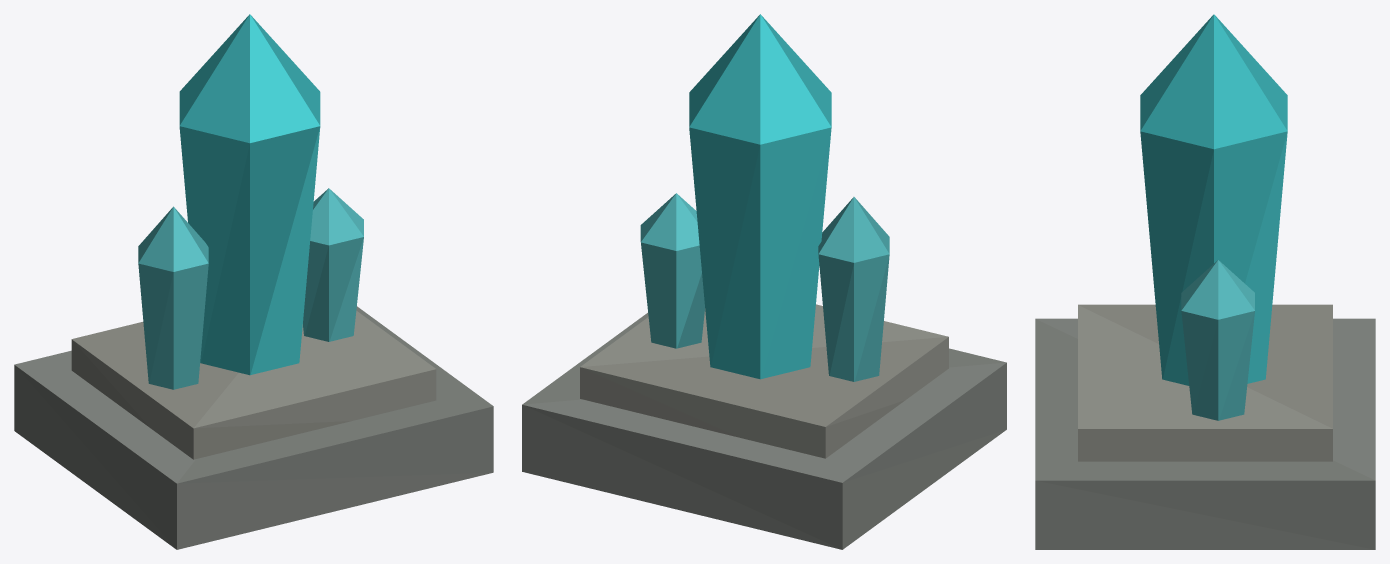
Rendered from crystal_pedestal.glb.
3 renders of one model, left to right at view 1: azimuth 30°, elevation 25°; view 2: azimuth 150°, elevation 25°; view 3: azimuth 270°, elevation 25°, orthographic. The views are drawn at different scales.
Parts seen in each view (by area): view 1: stone_base, crystal_main, stone_riser, crystal_left, crystal_right; view 2: stone_base, crystal_main, stone_riser, crystal_left, crystal_right; view 3: stone_base, crystal_main, stone_riser, crystal_right.
Part boxes in pixels (x1,y1,x2,y2): stone_base: (14, 306, 493, 549); crystal_main: (179, 14, 320, 375); stone_riser: (71, 311, 436, 459); crystal_left: (138, 206, 208, 389); crystal_right: (303, 188, 363, 341); stone_base: (522, 313, 1006, 549); crystal_main: (689, 14, 831, 379); stone_riser: (580, 304, 948, 458); crystal_left: (818, 197, 889, 381); crystal_right: (640, 193, 704, 348); stone_base: (1035, 318, 1375, 549); crystal_main: (1140, 14, 1287, 385); stone_riser: (1078, 304, 1332, 461); crystal_right: (1181, 260, 1254, 420).
Size of the model in its own units: 0.9 by 1.18 by 0.8.
